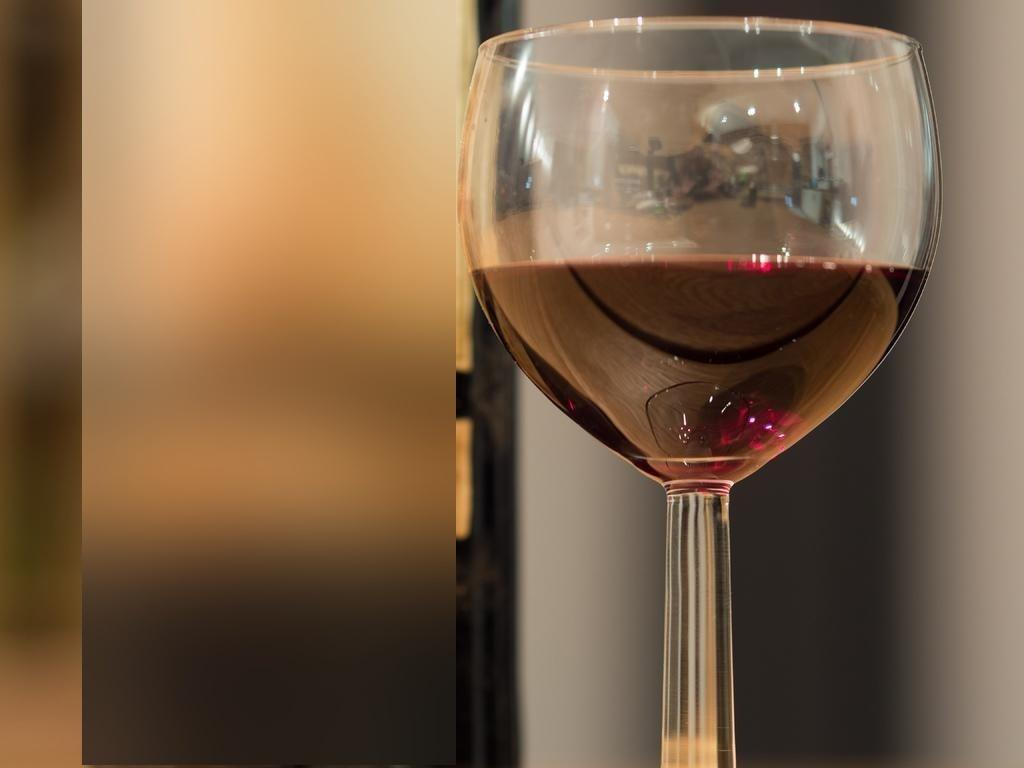glass-wine: (456, 19, 940, 768)
